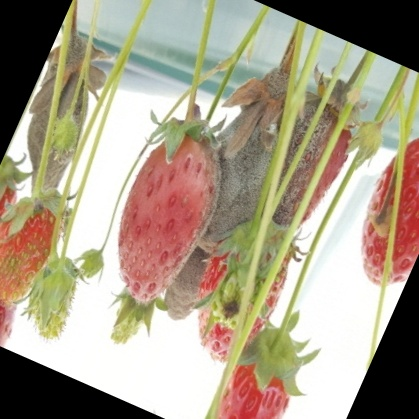Gray_Mold: (180, 20, 285, 243), (0, 18, 77, 269), (130, 118, 216, 319), (248, 32, 317, 194), (197, 233, 246, 326)
